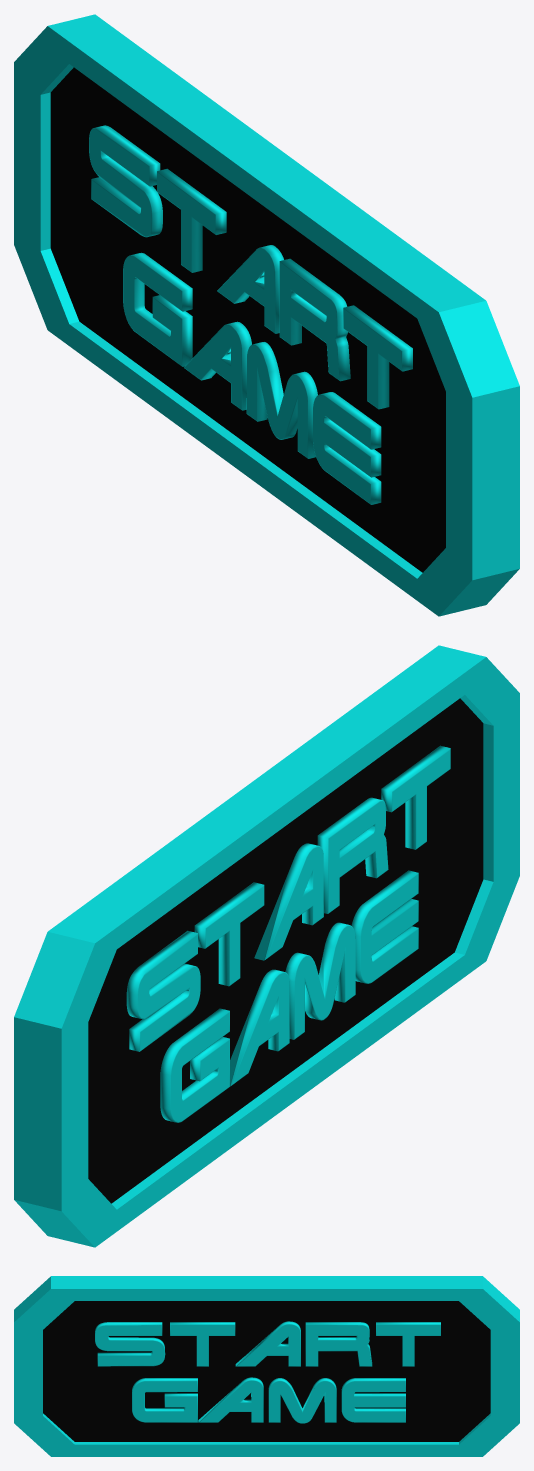
File: startgame.fbx
3 views of the same model, one above another, from view 1: azimuth 30°, elevation 25°; view 2: azimuth 150°, elevation 25°; view 3: azimuth 270°, elevation 25° (orthographic). The views are drawn at different scales.
Parts seen in each view (by area): view 1: Cube; view 2: Cube; view 3: Cube.
Part boxes in pixels (x1=…): Cube: x1=14, y1=14, x2=519, y2=616; Cube: x1=14, y1=645, x2=519, y2=1247; Cube: x1=14, y1=1276, x2=519, y2=1456.
Bounding box in the file's own units: 41.84 × 252 × 687.
